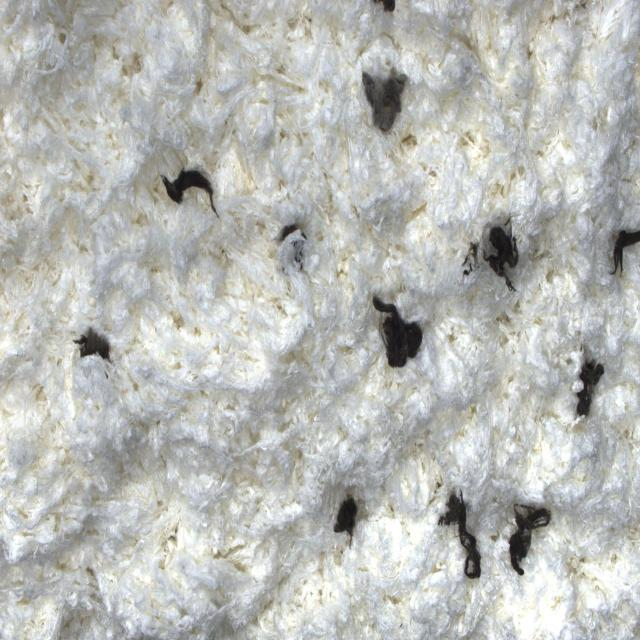dust: (155, 127, 221, 235), (433, 475, 490, 589), (506, 484, 556, 589), (366, 289, 427, 371), (273, 190, 317, 300), (355, 59, 412, 142), (481, 212, 526, 306), (597, 202, 640, 299), (569, 354, 608, 426), (327, 482, 364, 557), (68, 323, 113, 375), (450, 232, 477, 301), (369, 0, 408, 19)
